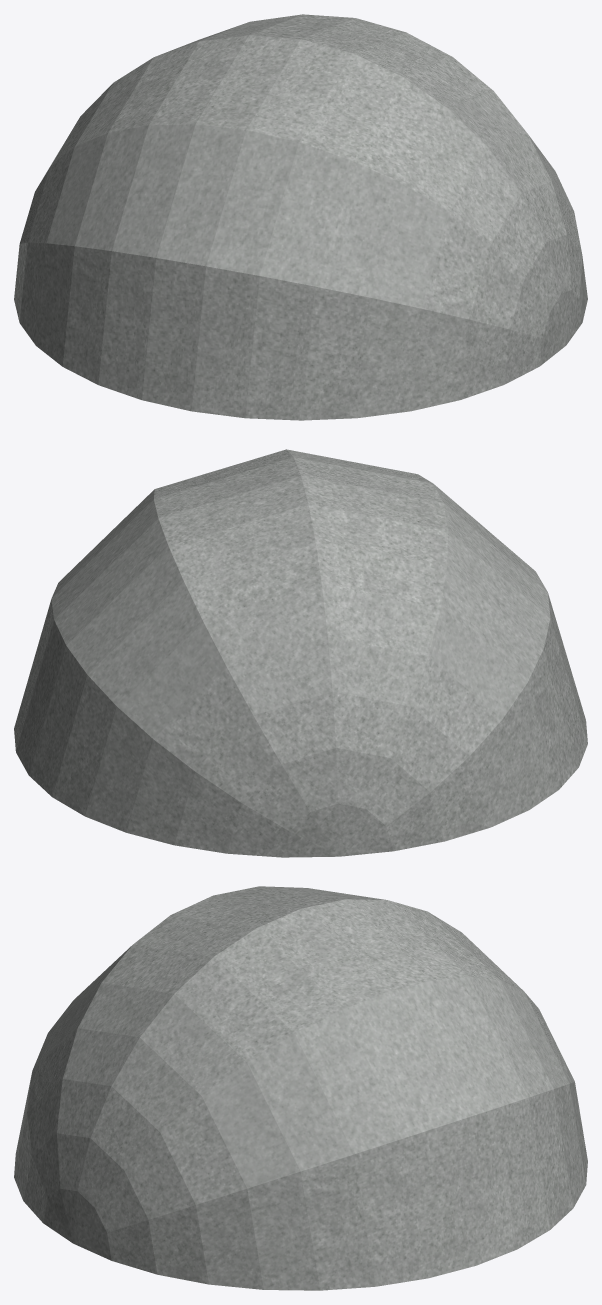
File: joyau.fbx
The picture shows the model from 3 angles, top to bottom: view 1: azimuth 30°, elevation 25°; view 2: azimuth 150°, elevation 25°; view 3: azimuth 270°, elevation 25°; orthographic projection.
Parts seen in each view (by area): view 1: bijou.001; view 2: bijou.001; view 3: bijou.001.
Part boxes in pixels (x1,y1,x2,y2): bijou.001: (14, 14, 587, 420); bijou.001: (14, 449, 587, 857); bijou.001: (14, 886, 587, 1290).
Bounding box in the file's own units: 8.99 × 4.51 × 8.99.
1 material, 1 textured.
